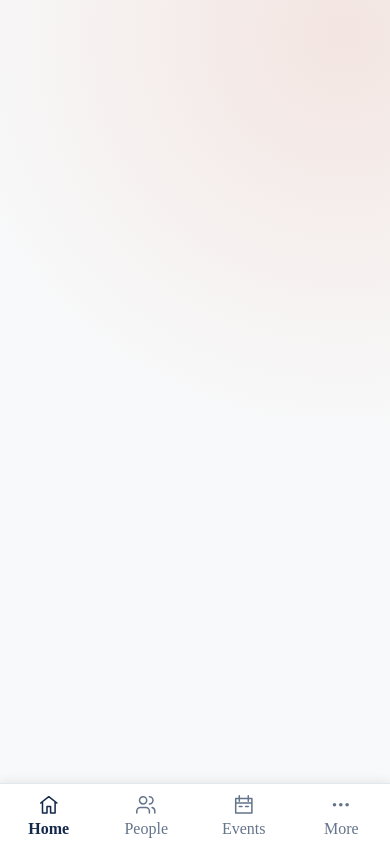
Scenario: MobileOrganizationAdminNavigation › switches from People to Events without closing modal interaction boundary
Click the button "People": click(146, 814) [98, 784, 195, 843]
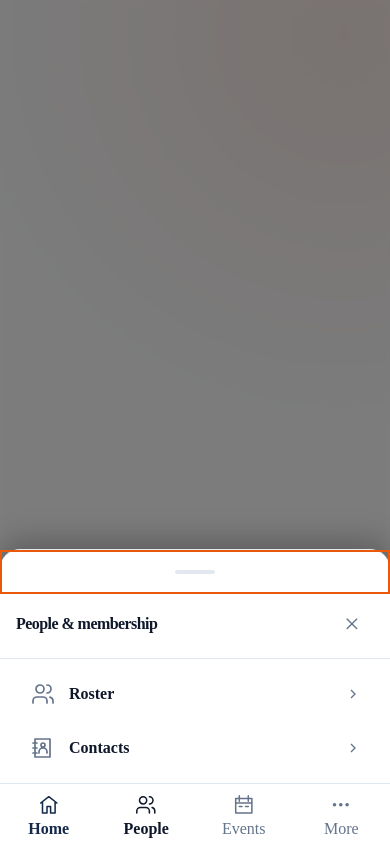
Expected: the heading "People & membership" is shown, [16, 615, 157, 632]
Click the button with aria-label "Events": click(244, 814) [195, 784, 292, 843]
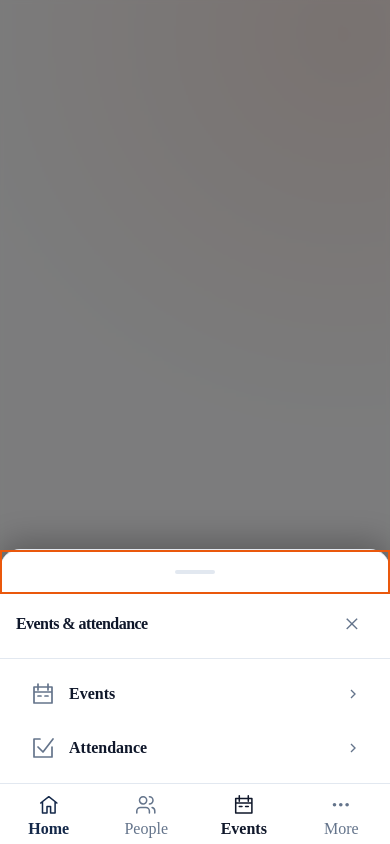
Expected: the heading "Events & attendance" is shown, [16, 615, 148, 632]
Expected: the link "Events" is shown, [31, 682, 361, 706]
Expected: the link "Attendance" is shown, [31, 736, 361, 760]
